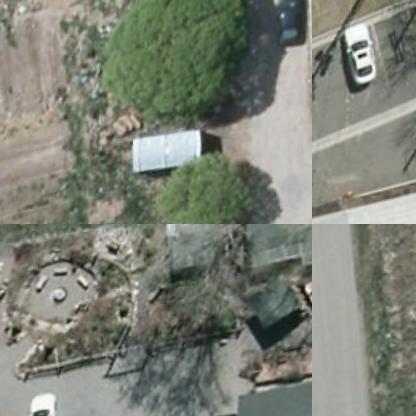car: (333, 20, 384, 90), (255, 0, 311, 61), (22, 391, 67, 415)
